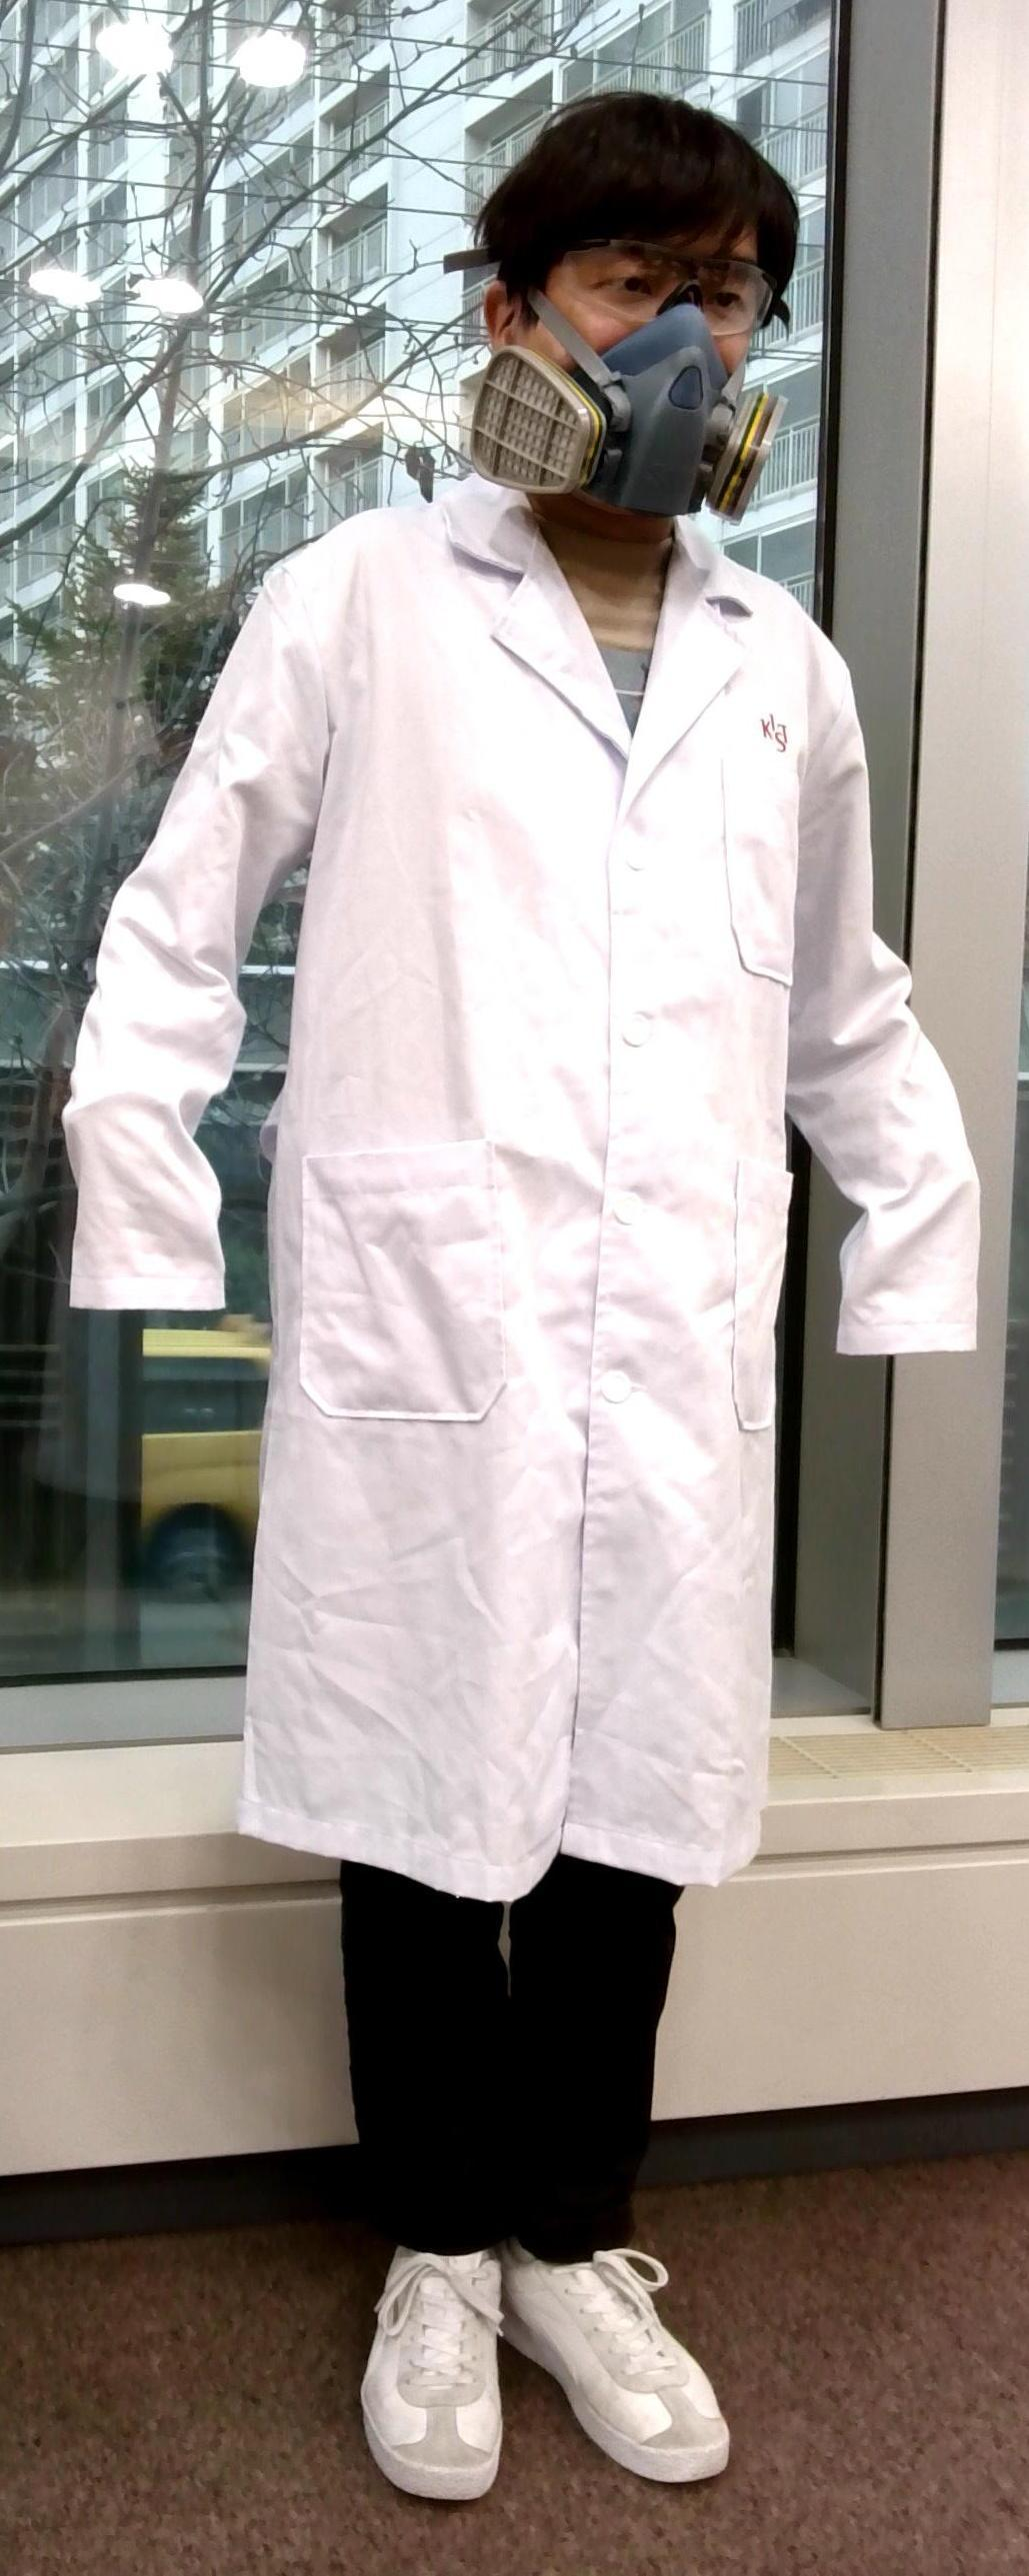lab_coat: (71, 496, 1004, 1838)
